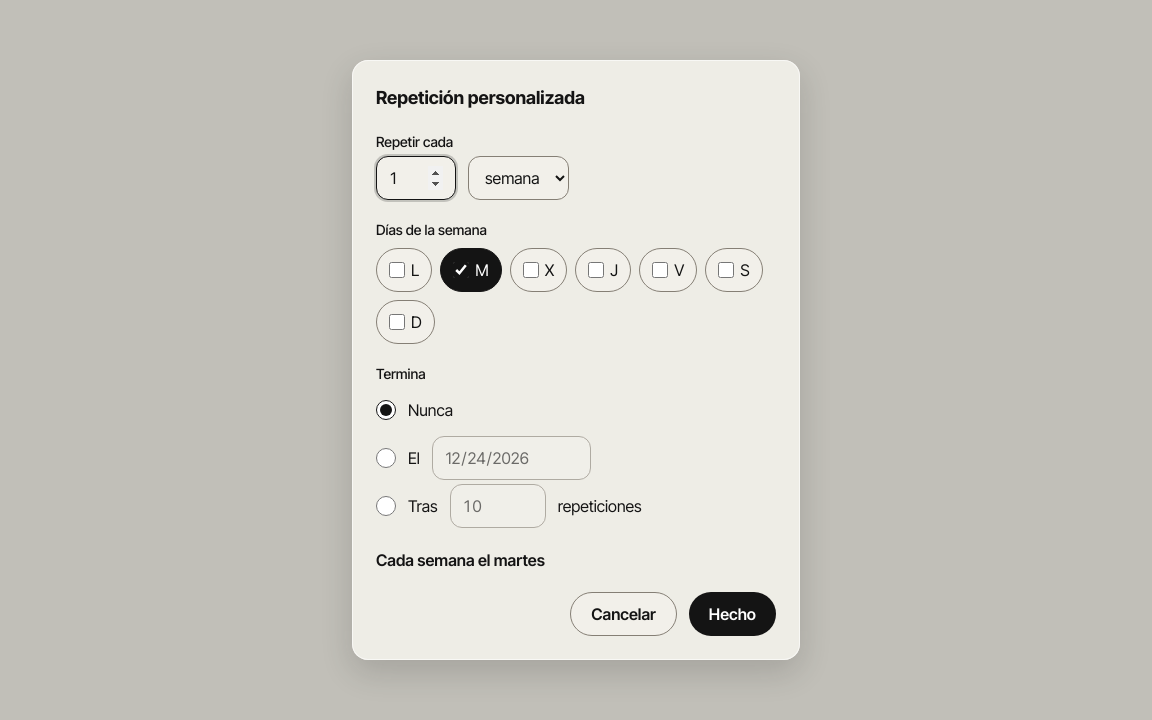
Scenario: RecurrenceEditor (RF-3, RF-4, RF-5) › refuses intervals outside 1 to 99 and weeks without days
Clear the number field labelled "Repetir cada" at (416, 178), box [376,156,456,200]
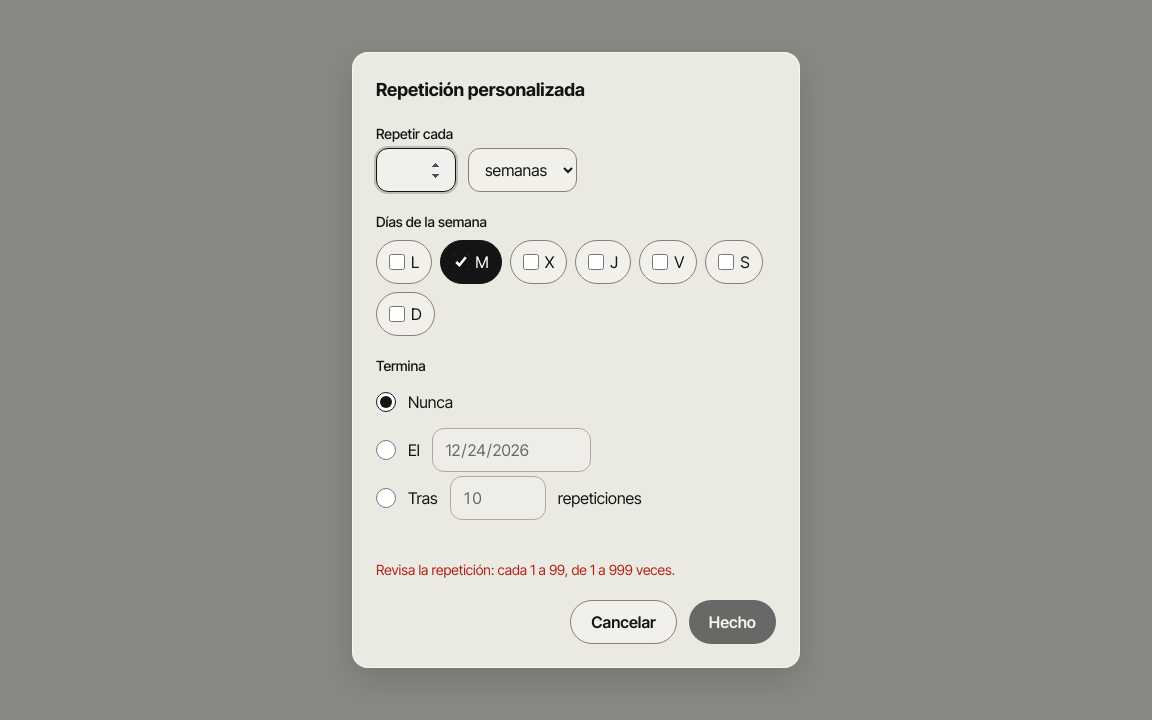
Type "100" into the number field labelled "Repetir cada".
click(416, 170); type("100")  # box [376,148,456,192]
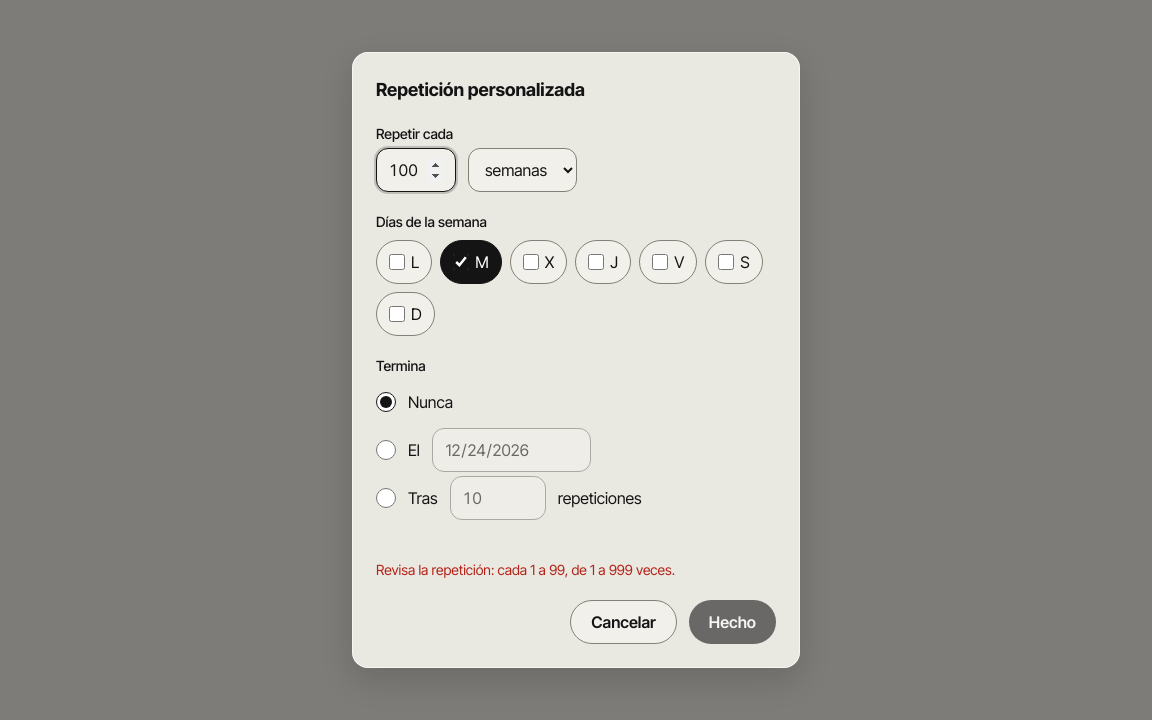
Expected: the button "Hecho" is disabled, [689,600,776,644]
Expected: the text "Revisa la repetición: cada 1 a 99, de 1 a 999 veces." is shown, [376,561,675,578]
Replace the text in the number field labelled "Repetir cada" with "1" at (416, 170), box [376,148,456,192]
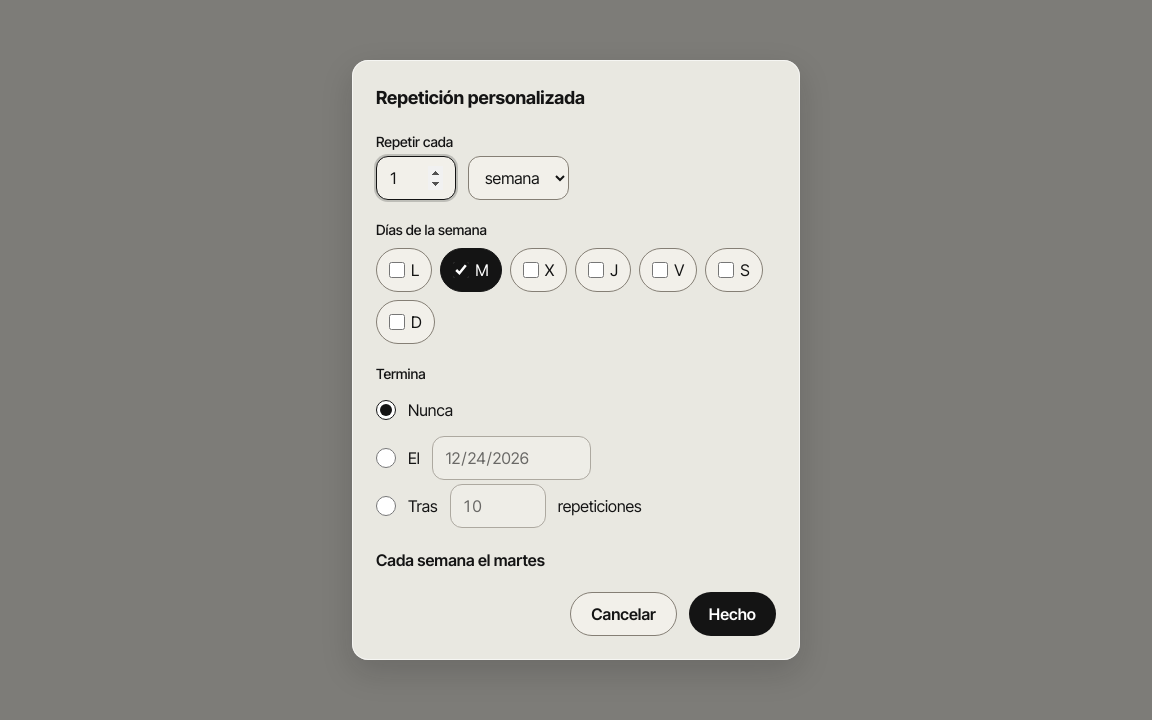
Click the checkbox named "martes".
click(461, 270)  # box [453,262,469,278]
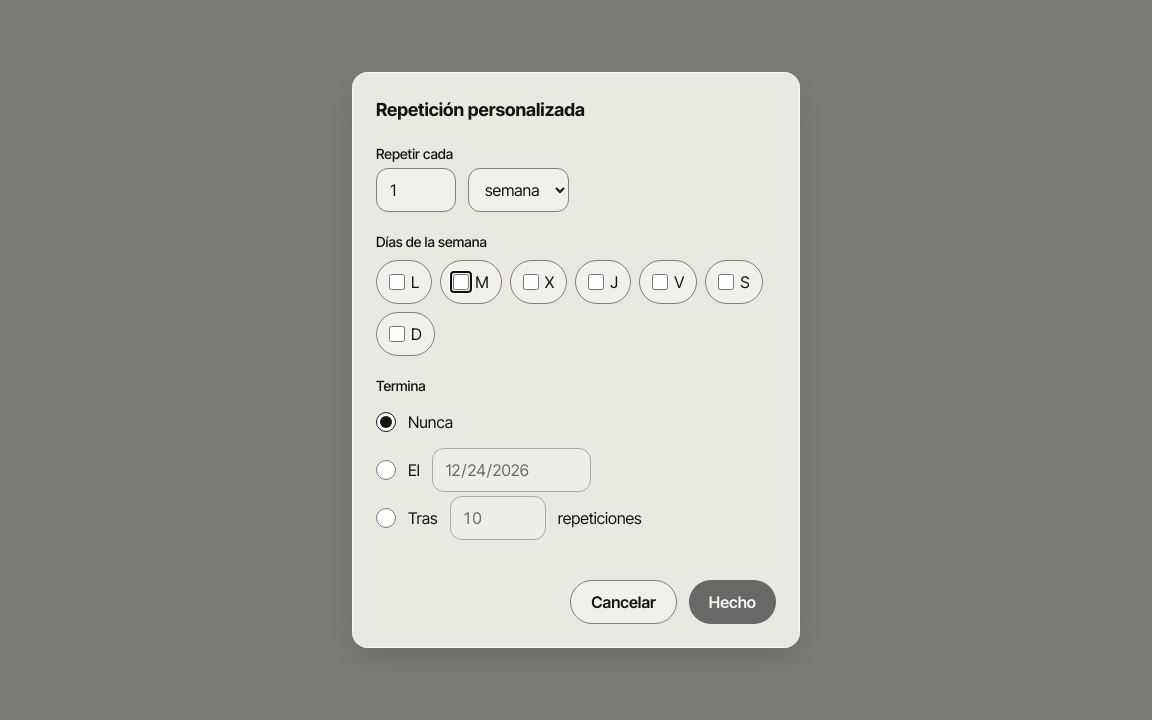
Expected: the button "Hecho" is disabled, [689,580,776,624]
